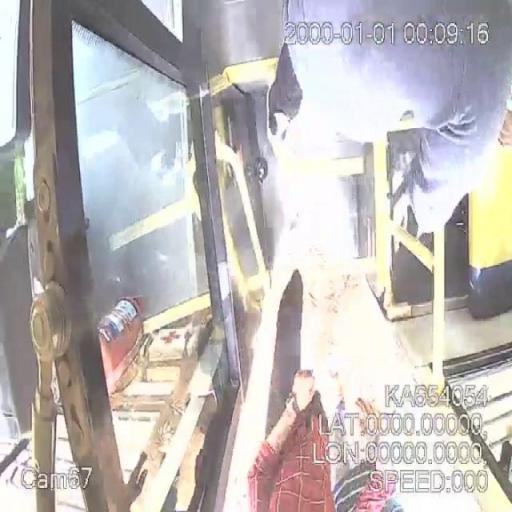persona: (263, 0, 512, 229), (247, 273, 399, 511)
